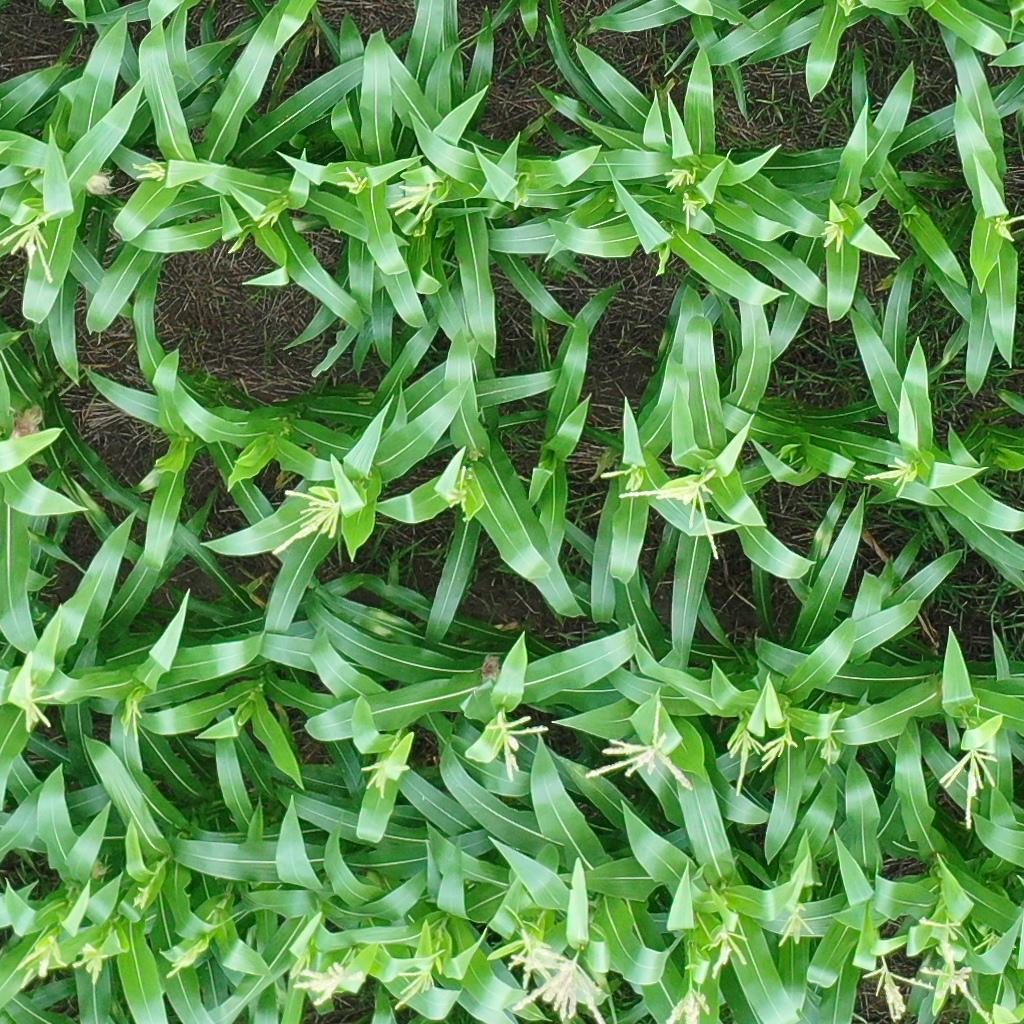Tassel: (586, 696, 698, 794), (616, 469, 724, 561), (512, 953, 610, 1024), (269, 483, 344, 557), (935, 745, 998, 832), (484, 710, 549, 784), (919, 962, 995, 1024), (862, 961, 936, 1021), (1, 205, 56, 284), (290, 961, 365, 1006), (510, 931, 558, 988), (725, 729, 765, 797), (705, 929, 752, 980), (771, 897, 817, 949), (20, 685, 67, 735), (866, 456, 914, 500), (359, 758, 411, 798), (17, 939, 67, 979), (662, 984, 711, 1024), (392, 967, 434, 1012), (389, 184, 436, 223), (755, 733, 800, 773), (804, 727, 846, 767), (162, 944, 202, 980), (73, 947, 109, 986), (598, 462, 643, 492), (917, 915, 964, 943), (447, 465, 469, 518), (118, 700, 144, 743), (820, 219, 846, 257), (128, 159, 167, 184), (992, 213, 1024, 243), (334, 167, 367, 194), (661, 168, 697, 192), (680, 199, 704, 231), (975, 932, 1002, 955), (255, 211, 283, 231), (130, 886, 151, 912)
